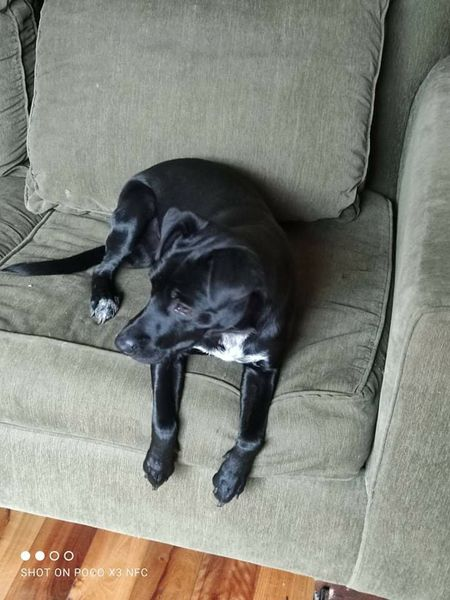dog: (12, 158, 317, 500)
